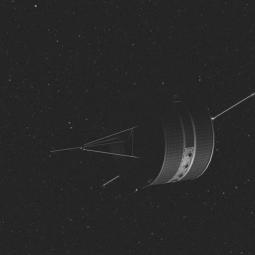double_start: (69, 81, 223, 202)
